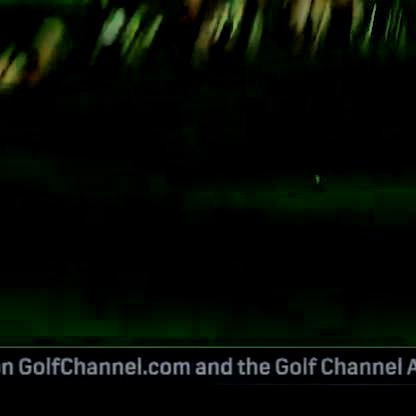golfball: (309, 171, 319, 182)
